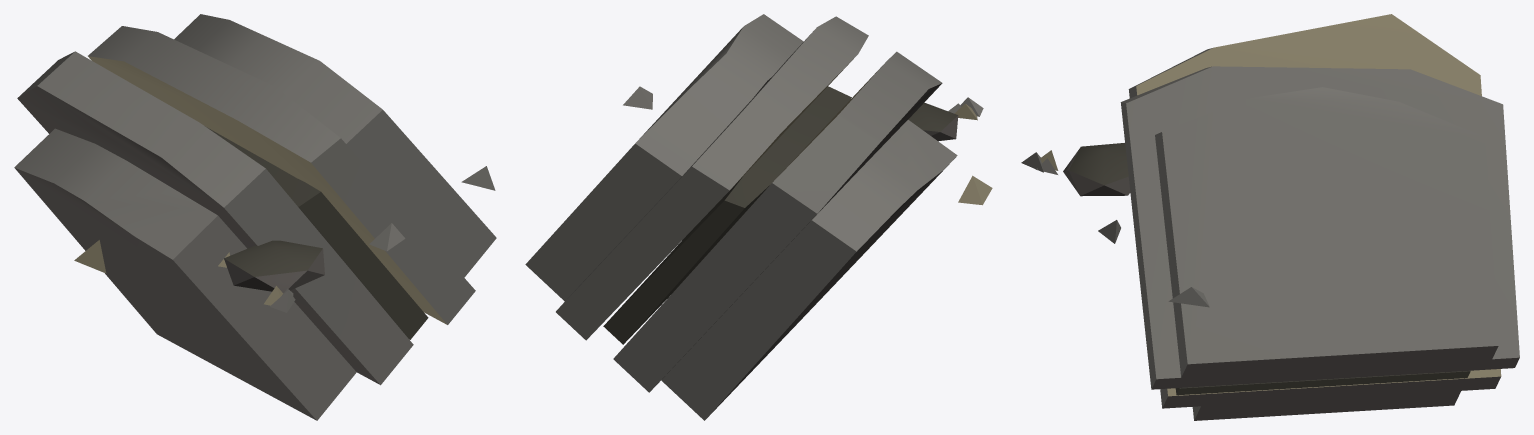
The model's file is MiningOutcropADug.fbx.
3 views of the same model, side by side, from view 1: azimuth 30°, elevation 25°; view 2: azimuth 150°, elevation 25°; view 3: azimuth 270°, elevation 25° (orthographic). The views are drawn at different scales.
Visible parts, largest first — view 1: MiningOutcropADug; view 2: MiningOutcropADug; view 3: MiningOutcropADug.
Boxes of the visible parts, box(x1,y1,x2,y2) form: MiningOutcropADug: box(14, 14, 496, 420); MiningOutcropADug: box(525, 14, 992, 420); MiningOutcropADug: box(1021, 14, 1519, 420).
Bounding box in the file's own units: 1.74 × 1.4 × 1.86.
